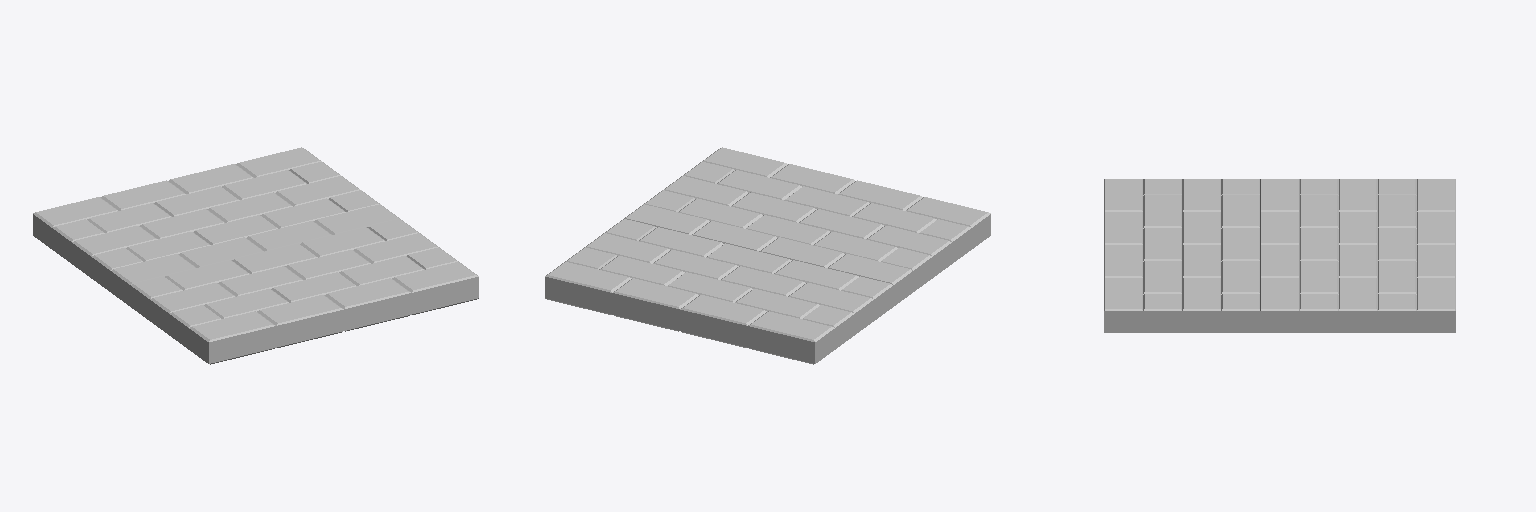
The model's file is wall_01.obj.
3 views of the same model, side by side, from view 1: azimuth 30°, elevation 25°; view 2: azimuth 150°, elevation 25°; view 3: azimuth 270°, elevation 25° (orthographic).
Parts seen in each view (by area): view 1: pCube102; view 2: pCube102; view 3: pCube102.
Boxes of the visible parts, x1=… form: pCube102: x1=33, y1=147, x2=478, y2=364; pCube102: x1=545, y1=147, x2=990, y2=364; pCube102: x1=1104, y1=179, x2=1455, y2=332.
Size of the model in its own units: 228 by 19.88 by 256.